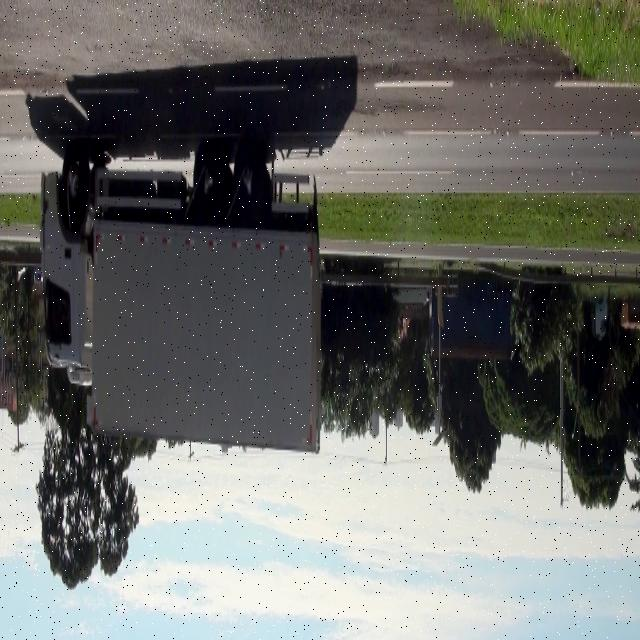-axle: (192, 138, 230, 231), (59, 137, 91, 230), (234, 144, 264, 233)
